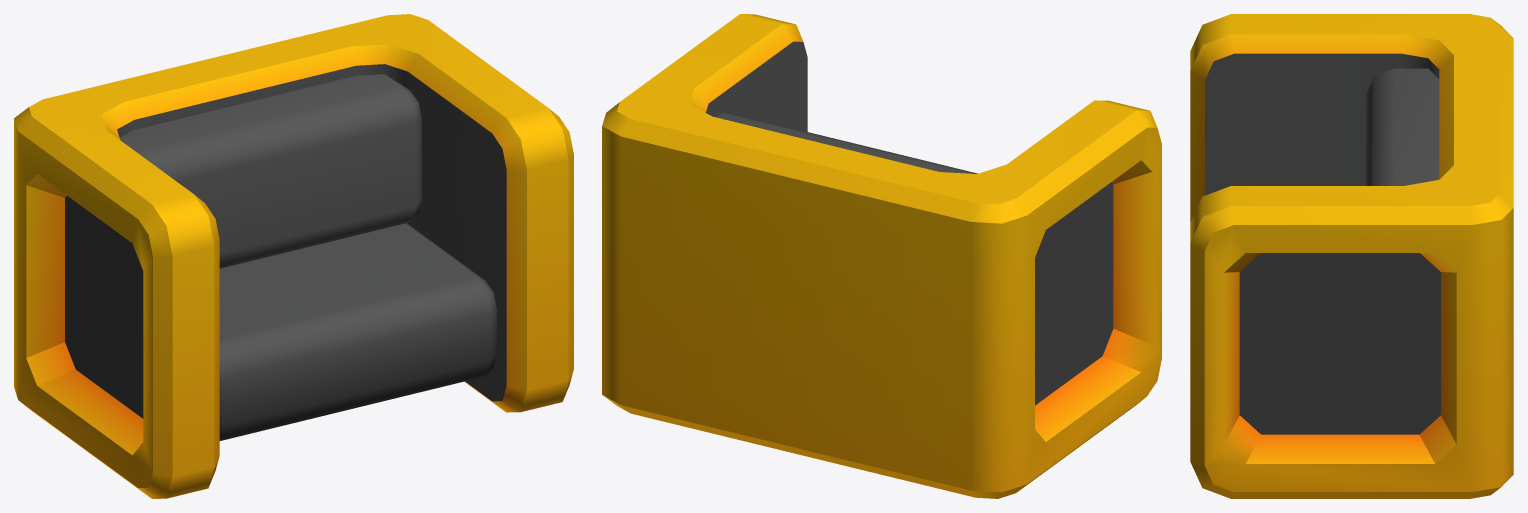
File: Mini_sofa_009.glb
3 renders of one model, left to right at view 1: azimuth 30°, elevation 25°; view 2: azimuth 150°, elevation 25°; view 3: azimuth 270°, elevation 25°, orthographic.
Visible parts, largest first — view 1: Mini_sofa_009; view 2: Mini_sofa_009; view 3: Mini_sofa_009.
Part boxes in pixels (x1,y1,x2,y2): Mini_sofa_009: (14,14,573,498); Mini_sofa_009: (602,14,1161,498); Mini_sofa_009: (1190,14,1513,498).
Size of the model in its own units: 1.28 by 0.8546 by 0.8546.
1 material, 1 textured.
